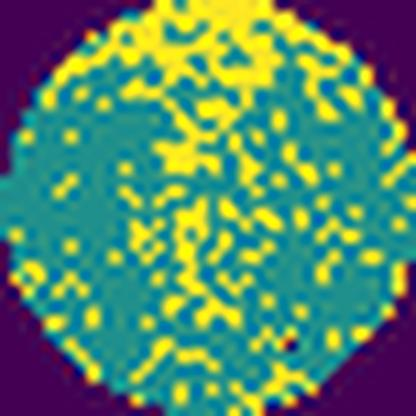Near-full: (0, 0, 415, 341)
